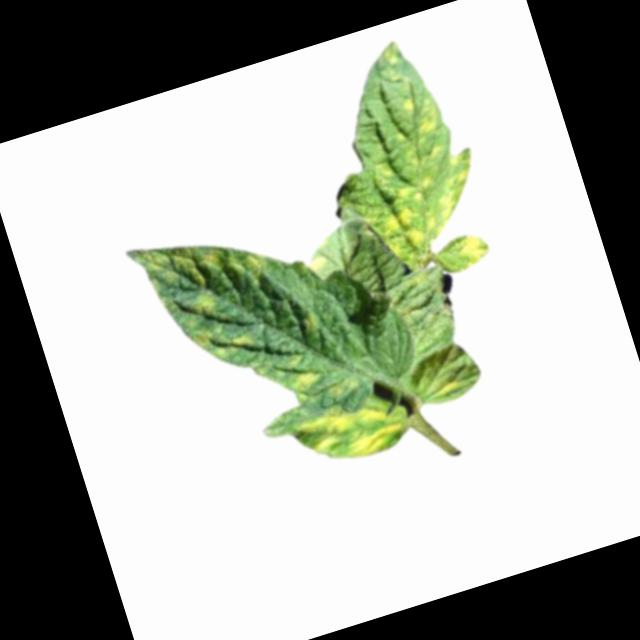Leaf_Mold: (319, 32, 506, 302), (124, 209, 281, 336), (295, 380, 422, 472), (188, 314, 261, 370), (276, 348, 329, 408)
